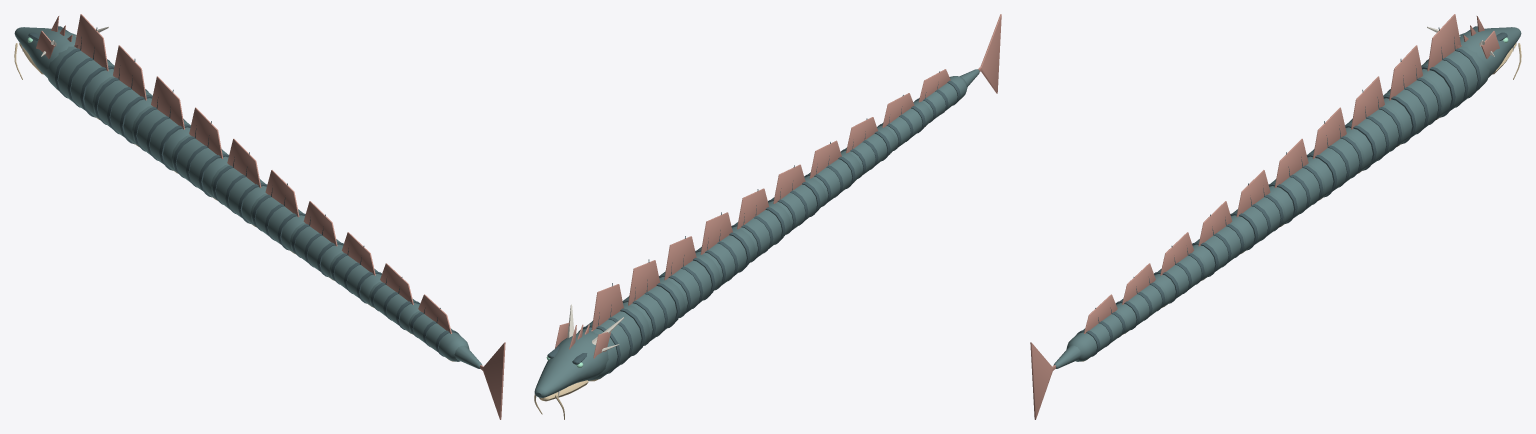
The model's file is sea_serpent.gltf.
3 renders of one model, left to right at view 1: azimuth 30°, elevation 25°; view 2: azimuth 150°, elevation 25°; view 3: azimuth 330°, elevation 25°, orthographic. The views are drawn at different scales.
Parts seen in each view (by area): view 1: Seg1, Seg2, Seg3, Seg4, Seg5, Seg6, Seg7, Seg8, Seg10, Head, Seg9, Tail; view 2: Head, Seg1, Seg2, Seg3, Seg4, Seg5, Seg6, Seg7, Seg8, Seg9, Seg10, Tail; view 3: Seg1, Seg2, Seg3, Seg4, Seg5, Seg6, Seg7, Seg8, Seg10, Head, Seg9, Tail.
Boxes of the visible parts, box(x1,y1,x2,y2) form: Seg1: box(46, 14, 114, 119); Seg2: box(92, 45, 152, 146); Seg3: box(132, 76, 190, 173); Seg4: box(171, 107, 228, 200); Seg5: box(211, 138, 267, 227); Seg6: box(250, 170, 305, 254); Seg7: box(290, 201, 343, 280); Seg8: box(329, 232, 381, 307); Seg10: box(408, 294, 469, 361); Head: box(14, 16, 108, 79); Seg9: box(369, 263, 420, 334); Tail: box(454, 342, 505, 419); Head: box(534, 304, 623, 419); Seg1: box(577, 283, 649, 381); Seg2: box(622, 259, 685, 345); Seg3: box(659, 236, 720, 317); Seg4: box(695, 212, 755, 290); Seg5: box(731, 188, 790, 262); Seg6: box(768, 164, 825, 234); Seg7: box(804, 140, 860, 206); Seg8: box(840, 117, 896, 178); Seg9: box(877, 93, 931, 150); Seg10: box(914, 69, 967, 122); Tail: box(959, 14, 1001, 93); Seg1: box(1421, 14, 1489, 119); Seg2: box(1383, 45, 1443, 146); Seg3: box(1345, 76, 1403, 173); Seg4: box(1307, 107, 1364, 200); Seg5: box(1268, 138, 1324, 227); Seg6: box(1230, 170, 1285, 254); Seg7: box(1192, 201, 1245, 280); Seg8: box(1154, 232, 1206, 307); Seg10: box(1066, 294, 1127, 361); Head: box(1427, 16, 1521, 79); Seg9: box(1115, 263, 1166, 334); Tail: box(1030, 342, 1081, 419).
Bounding box in the file's own units: 1.72 × 2.57 × 22.92.
